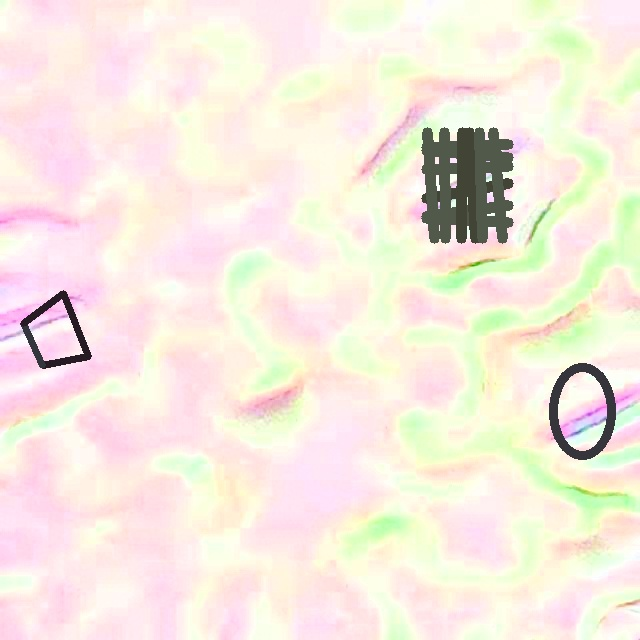open: (421, 128, 512, 243), (547, 362, 616, 460), (20, 290, 91, 368)
